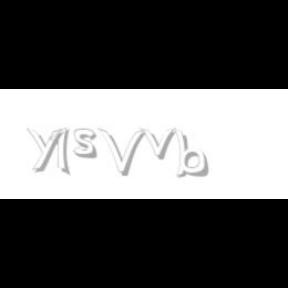1: (49, 128, 71, 176)
V: (98, 128, 146, 176)
b: (174, 128, 212, 178)
s: (74, 128, 102, 160)
v: (140, 128, 180, 160)
y: (27, 128, 67, 172)
